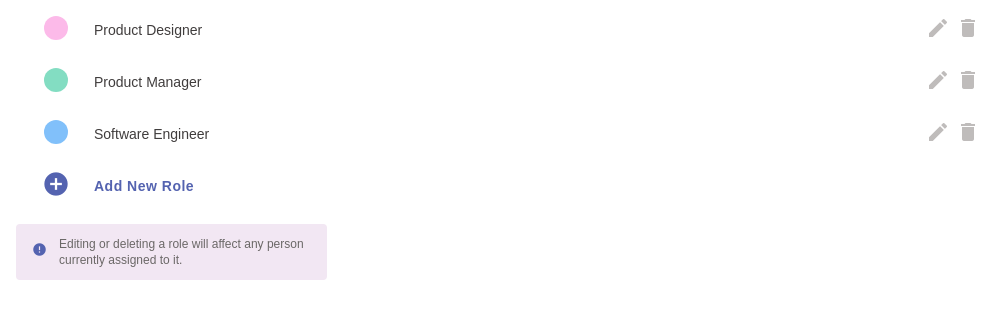
Test: My Roles Form › editing a role › should display error message when name is changed to existing role name
Click the 1st button with test id "editIcon__role" at (938, 30), box [926,16,950,44]
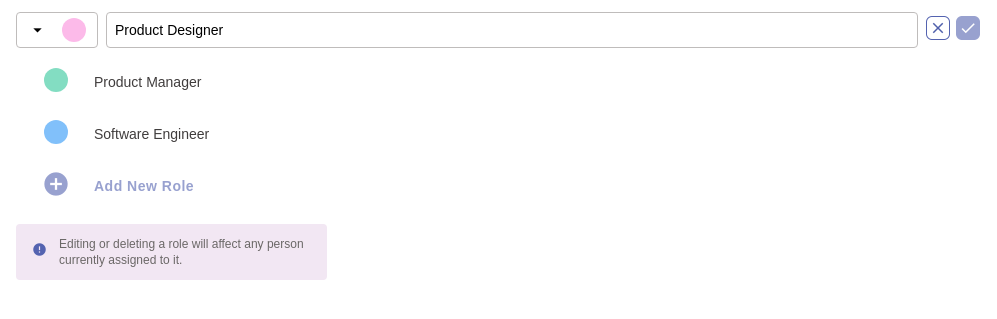
Replace the text in the field with test id "tagNameInput" with "Product Manager" at (512, 30), box [106,12,918,48]
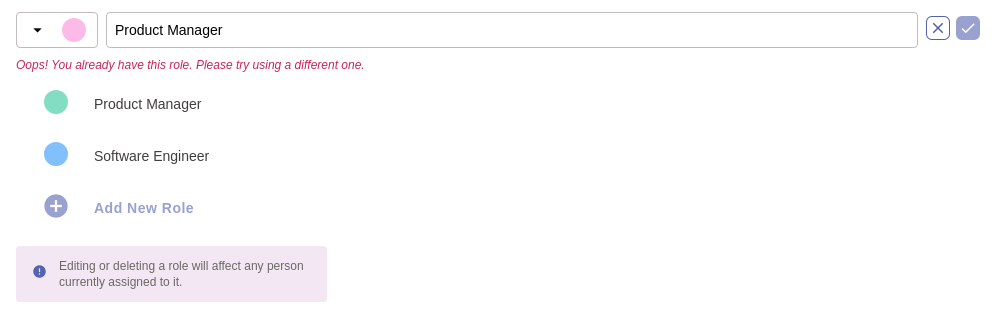
Check: the button with test id "saveTagButton" is disabled, box [956,16,980,44]
Check: the text "Oops! You already have this role. Please try using a different one." is shown, box [16,58,365,72]
